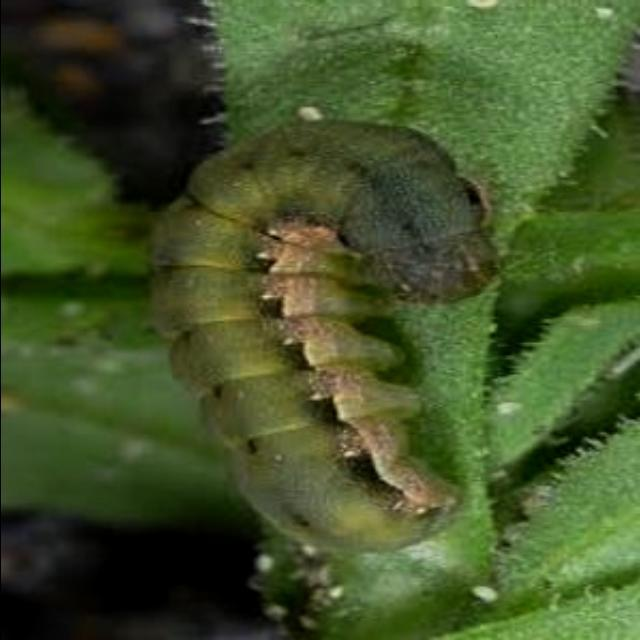Beet armyworm: (128, 83, 550, 592)
